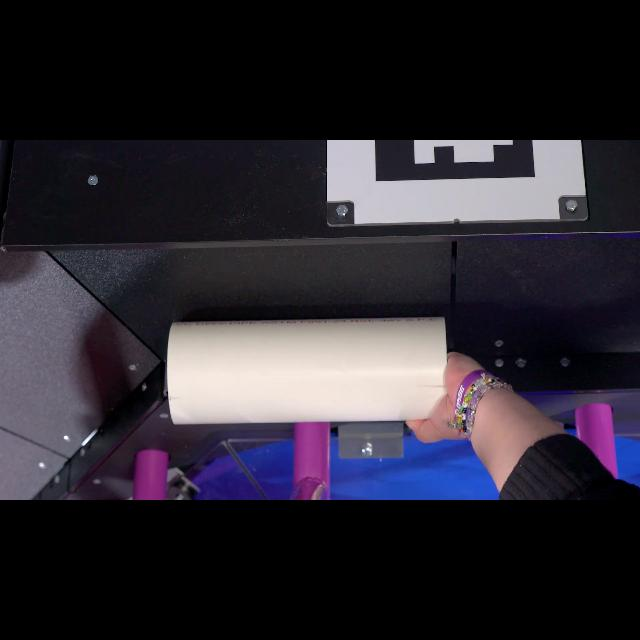CORAL: (165, 316, 448, 426)
